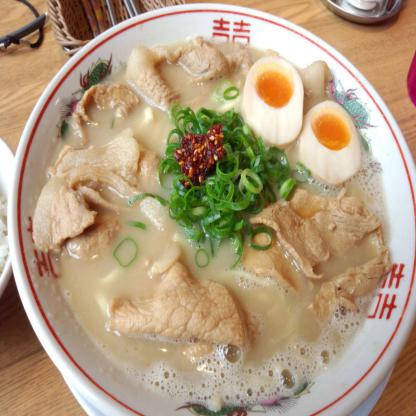Egg: (241, 54, 304, 145), (296, 100, 361, 186)
